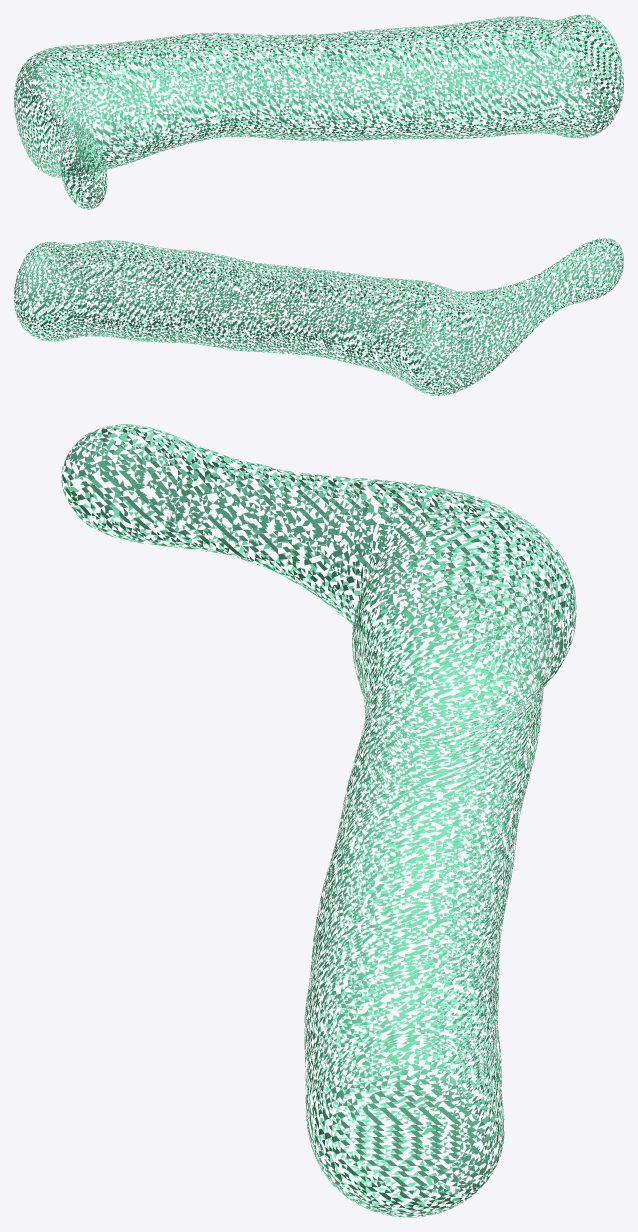
Rendered from healthy.glb.
The picture shows the model from 3 angles, top to bottom: view 1: azimuth 30°, elevation 25°; view 2: azimuth 150°, elevation 25°; view 3: azimuth 270°, elevation 25°; orthographic projection. The views are drawn at different scales.
Size of the model in its own units: 137 by 41.31 by 59.51.
